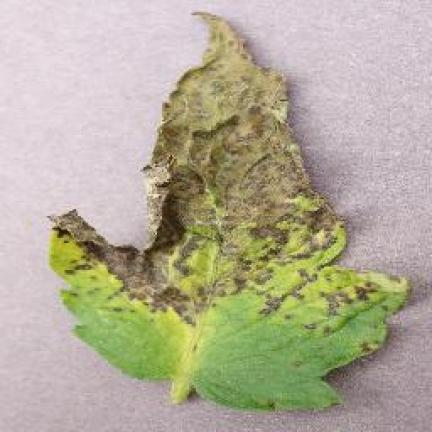disease: (51, 14, 407, 408)
leaf: (48, 13, 408, 336), (128, 309, 135, 312)
